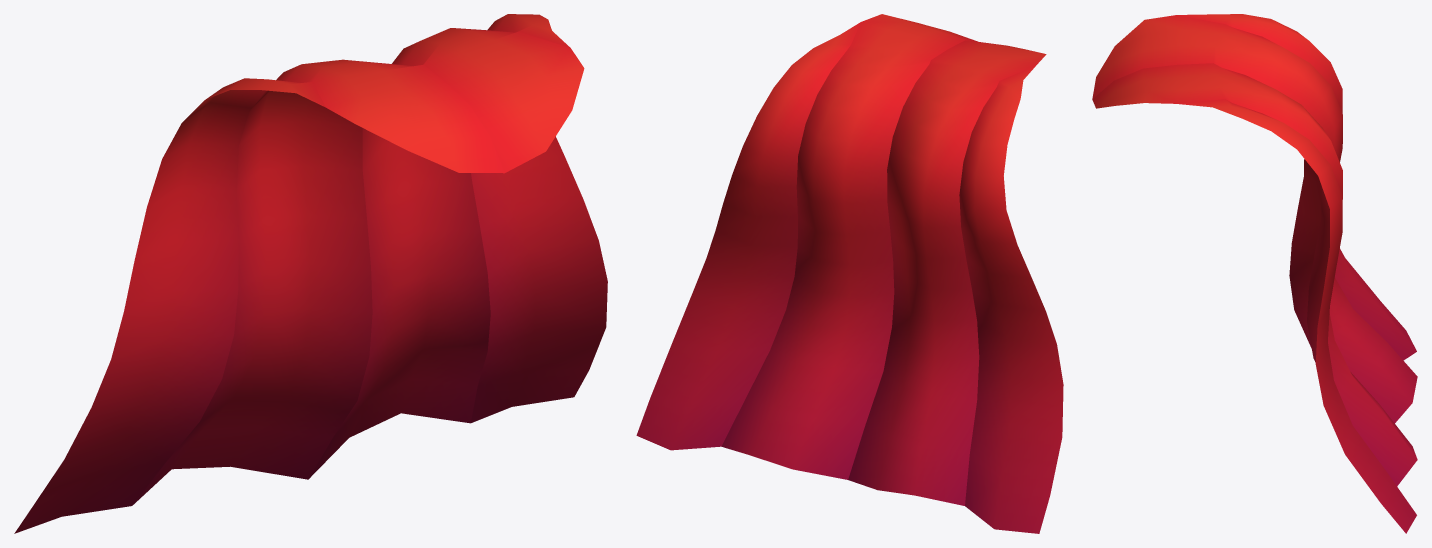
Rendered from Cape_SingleSidedForClothPhysics.obj.
The picture shows the model from 3 angles, left to right: view 1: azimuth 30°, elevation 25°; view 2: azimuth 150°, elevation 25°; view 3: azimuth 270°, elevation 25°; orthographic projection. The views are drawn at different scales.
Visible parts, largest first — view 1: Cape_SingleSidedForClothPhysics; view 2: Cape_SingleSidedForClothPhysics; view 3: Cape_SingleSidedForClothPhysics.
Boxes of the visible parts, x1=… form: Cape_SingleSidedForClothPhysics: x1=14, y1=14, x2=607, y2=533; Cape_SingleSidedForClothPhysics: x1=636, y1=14, x2=1063, y2=533; Cape_SingleSidedForClothPhysics: x1=1092, y1=14, x2=1417, y2=533.
Bounding box in the file's own units: 1.3 × 1.12 × 0.8786.
Materials: 1 (1 with a texture image).
